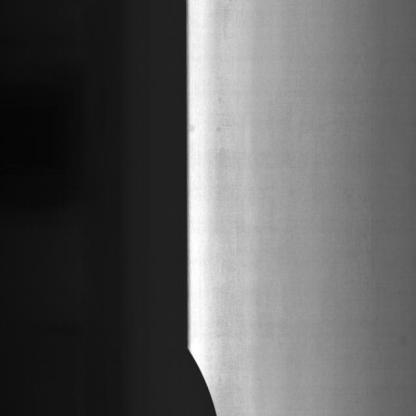crescent_gap: (180, 332, 224, 416)
